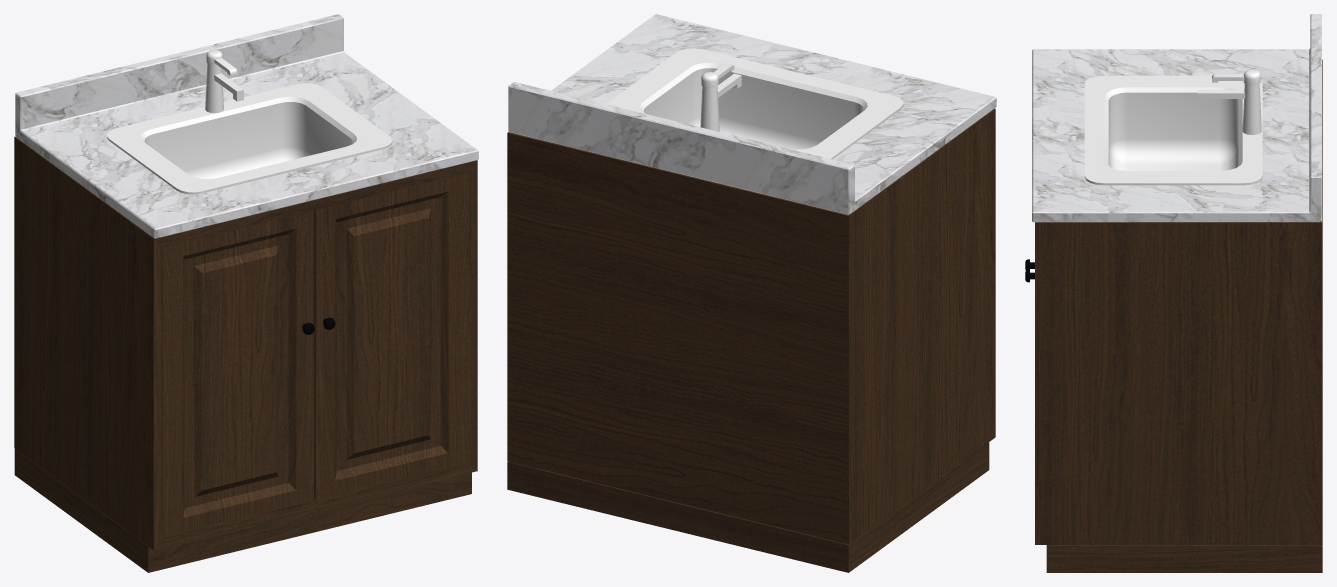
Rendered from sink-unit.glb.
3 views of the same model, side by side, from view 1: azimuth 30°, elevation 25°; view 2: azimuth 150°, elevation 25°; view 3: azimuth 270°, elevation 25° (orthographic). The views are drawn at different scales.
Visible parts, largest first — view 1: Object_4; view 2: Object_4; view 3: Object_4.
Boxes of the visible parts, x1=… form: Object_4: x1=14, y1=14, x2=478, y2=572; Object_4: x1=507, y1=14, x2=996, y2=572; Object_4: x1=1025, y1=14, x2=1322, y2=572.
Size of the model in its own units: 7.06 by 8.49 by 5.43.
1 material, 1 textured.
